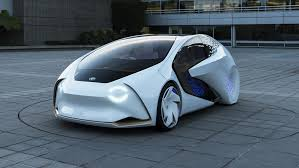Toyota: (59, 40, 171, 128)
